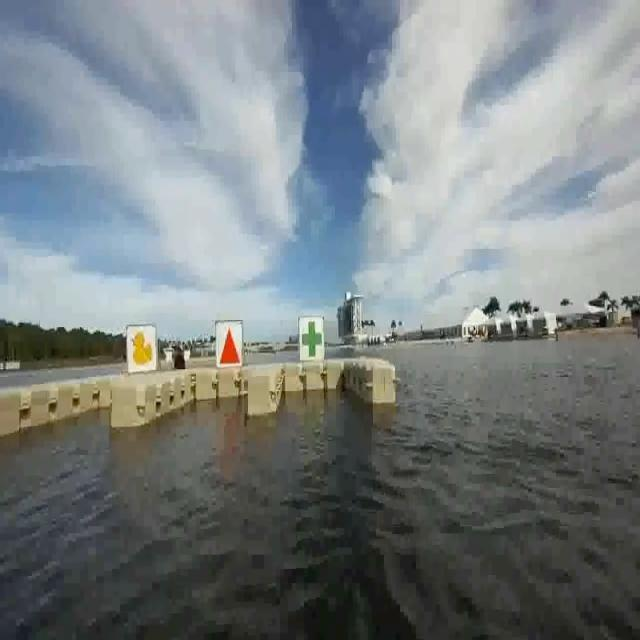blue-cross: (300, 315, 325, 364)
red-dot: (213, 320, 244, 372)
yellow-duck: (125, 325, 157, 372)
